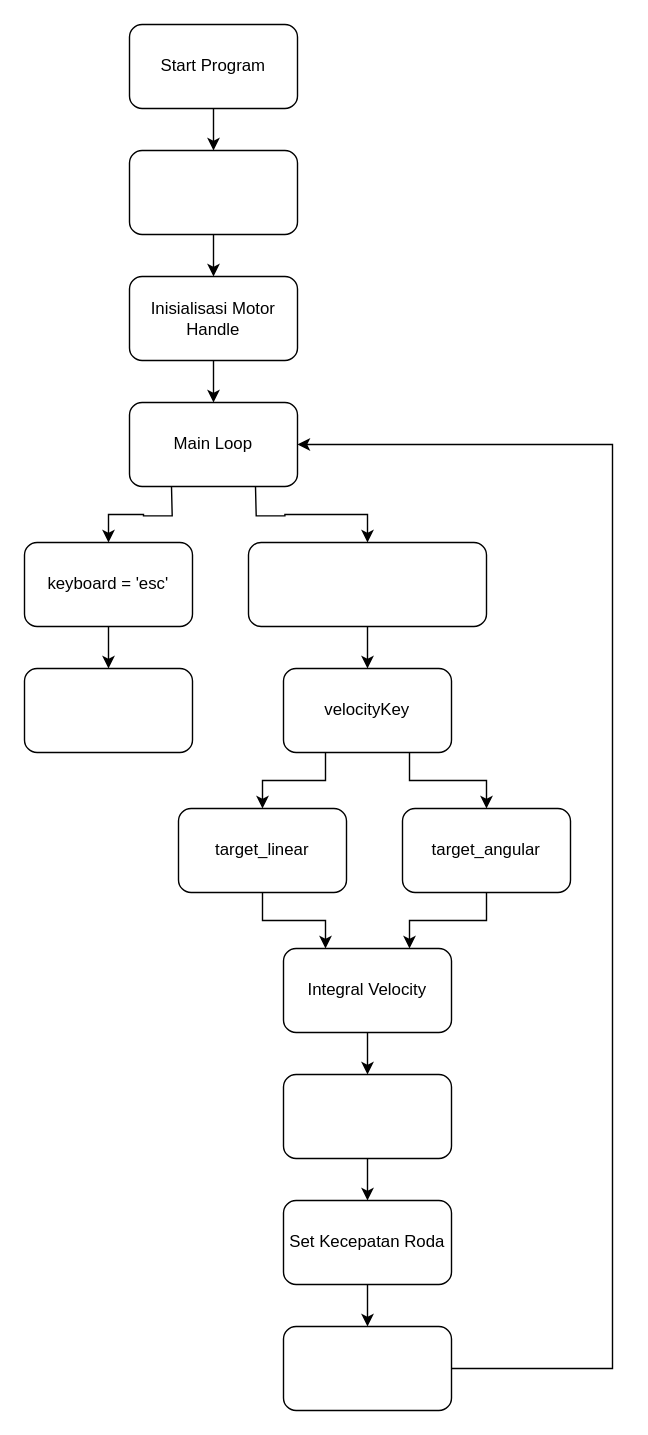
The diagram is 648 pixels wide and 1435 high, and some of its shapes have lost their labels. The shapes that lost their labels are listed below. From the top down, each one's centre as x and y in pixels, then its label:
At [213,191]: "Inisialisasi API".
At [366,583]: "keyboard = 'w' | 'a' | 's' | 'd' | ' '".
At [107,709]: "Stop Simulasi".
At [366,1115]: "InverseKinematic".
At [366,1367]: "delay (dt)".
